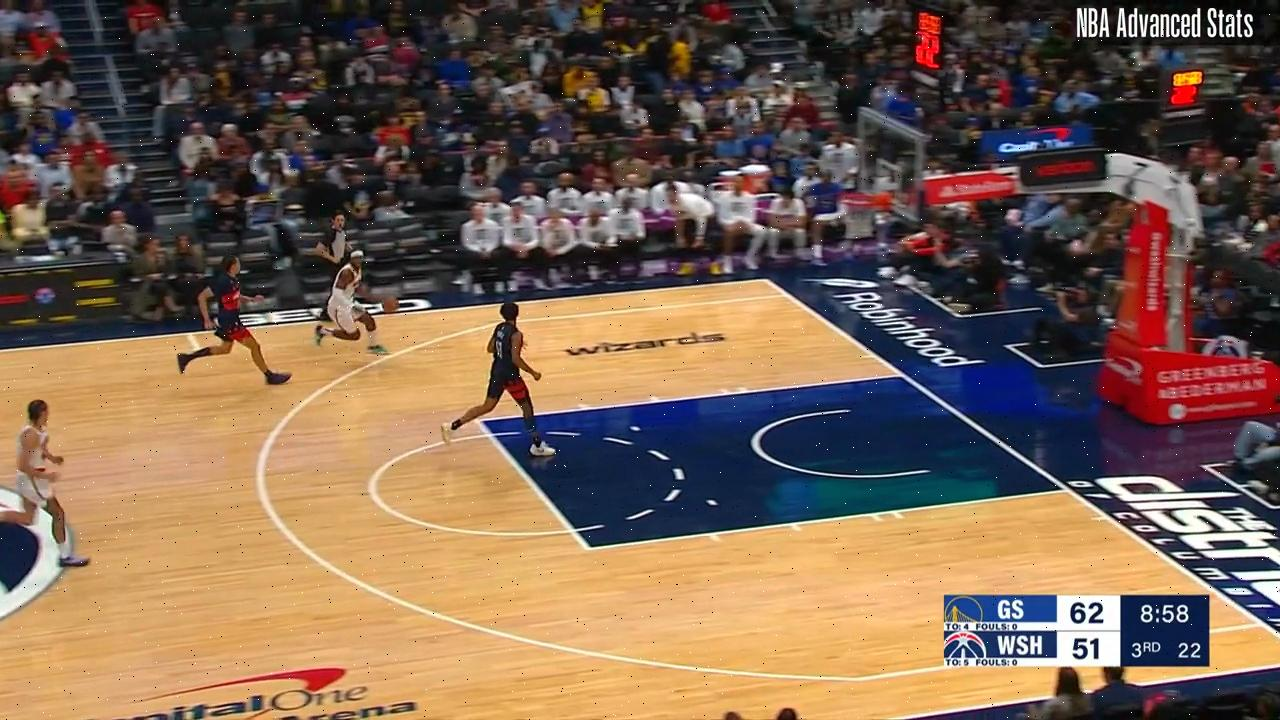basketball: (380, 293, 401, 314)
